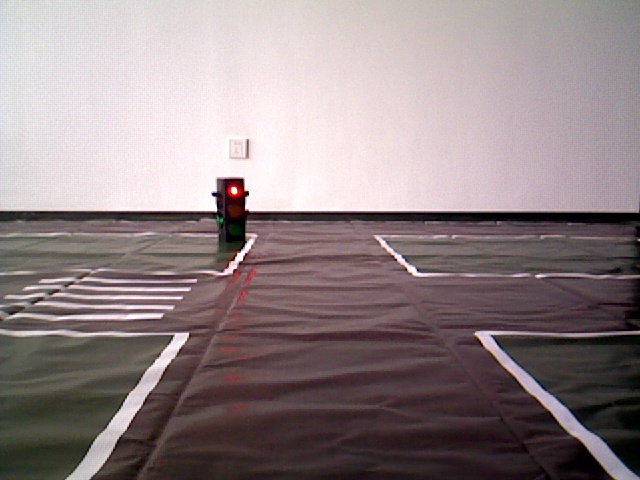red: (218, 182, 242, 242)
